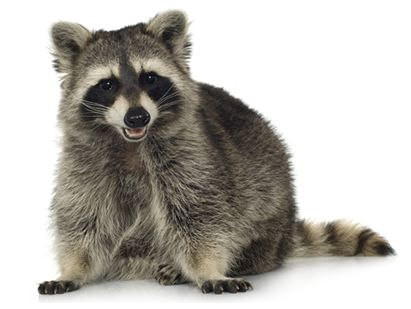raccoon: (33, 2, 397, 297)
